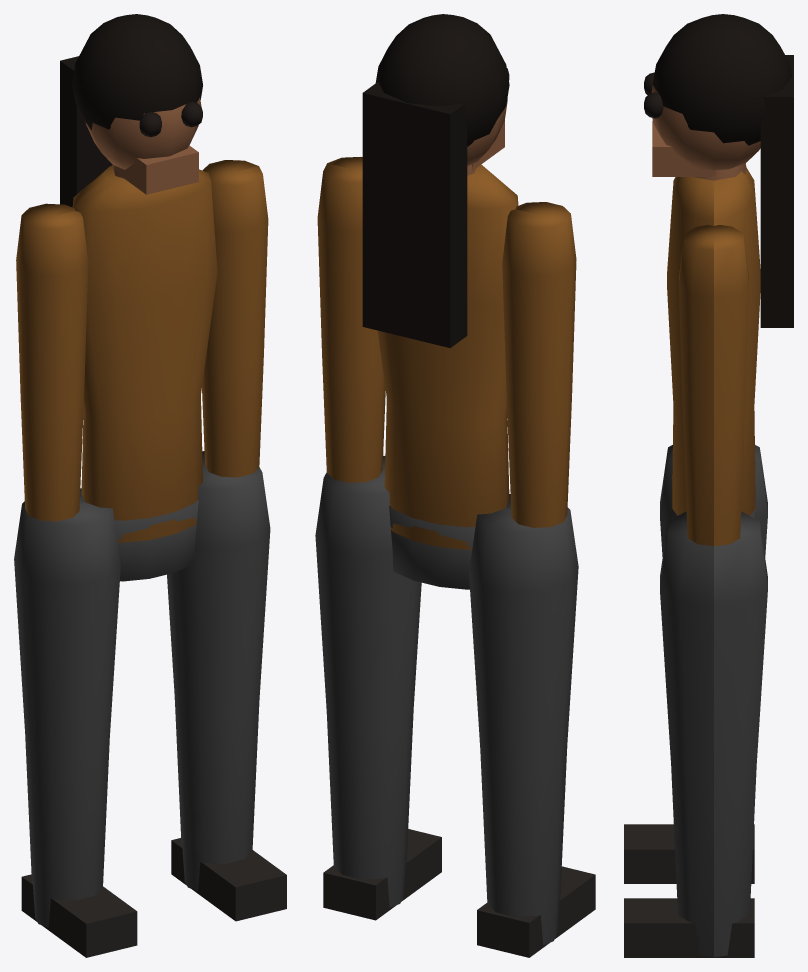
File: survivor_priya.glb
The picture shows the model from 3 angles, left to right: view 1: azimuth 30°, elevation 25°; view 2: azimuth 150°, elevation 25°; view 3: azimuth 270°, elevation 25°; orthographic projection. The views are drawn at different scales.
Visible parts, largest first — view 1: survivor_priya; view 2: survivor_priya; view 3: survivor_priya.
Part boxes in pixels (x1,y1,x2,y2): survivor_priya: [14, 14, 286, 957]; survivor_priya: [315, 14, 595, 957]; survivor_priya: [624, 14, 793, 957].
Size of what is drawn, in the model's own units: 0.5222 by 1.8 by 0.3119.
